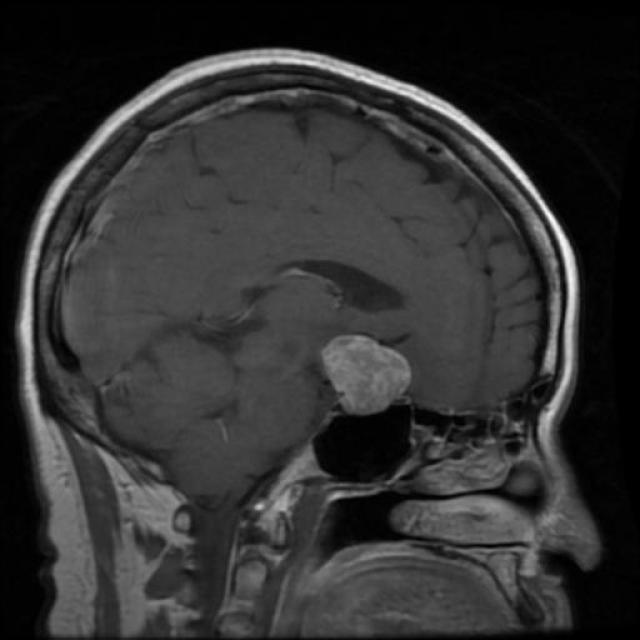pituitary: (316, 328, 439, 435)
